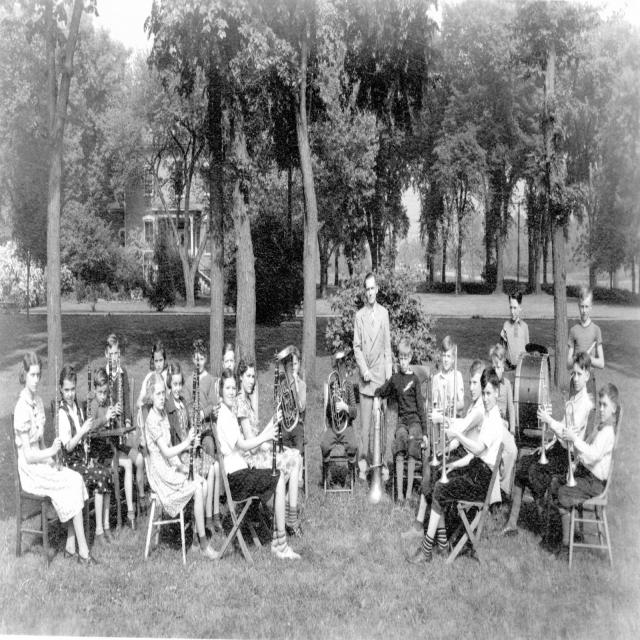clarinet: (50, 351, 63, 471), (269, 346, 279, 480), (186, 367, 196, 483), (85, 356, 94, 472), (196, 356, 203, 460), (106, 348, 113, 439)
